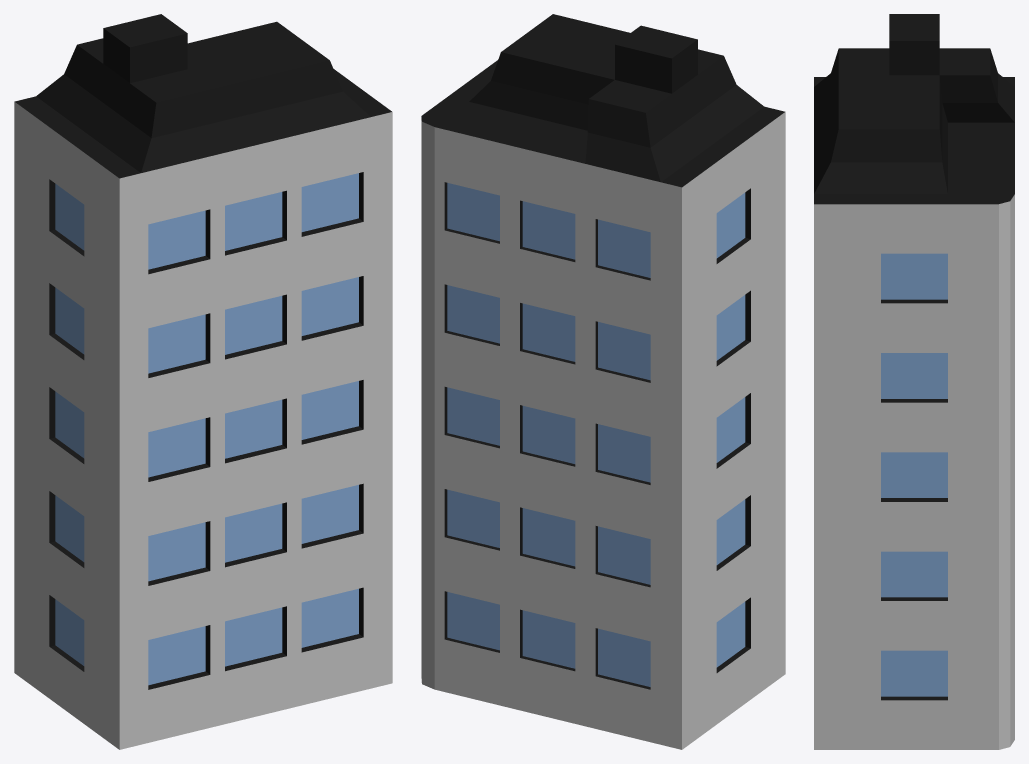
Rendered from kerrostalo2.fbx.
3 renders of one model, left to right at view 1: azimuth 30°, elevation 25°; view 2: azimuth 150°, elevation 25°; view 3: azimuth 270°, elevation 25°, orthographic. The views are drawn at different scales.
Visible parts, largest first — view 1: Cube; view 2: Cube; view 3: Cube.
Part boxes in pixels (bbox=[...]): Cube: bbox=[14, 14, 392, 749]; Cube: bbox=[421, 14, 785, 749]; Cube: bbox=[814, 14, 1014, 749].
Bounding box in the file's own units: 1500 × 3473 × 1000.
